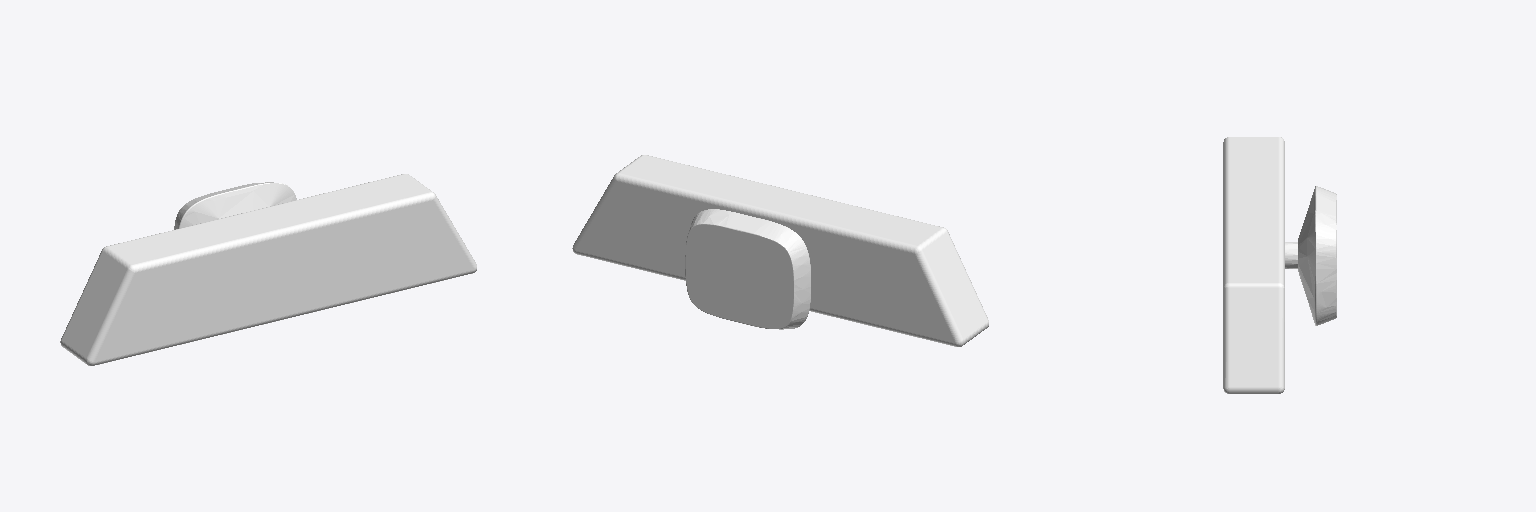
Rendered from kinect.obj.
3 renders of one model, left to right at view 1: azimuth 30°, elevation 25°; view 2: azimuth 150°, elevation 25°; view 3: azimuth 270°, elevation 25°, orthographic.
Size of the model in its own units: 0.2786 by 0.0725 by 0.07.